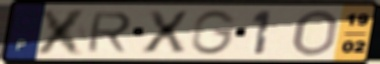1: (251, 9, 273, 56)
G: (190, 9, 239, 56)
O: (290, 8, 341, 58)
R: (84, 10, 135, 53)
X: (32, 7, 92, 57), (140, 9, 191, 55)
